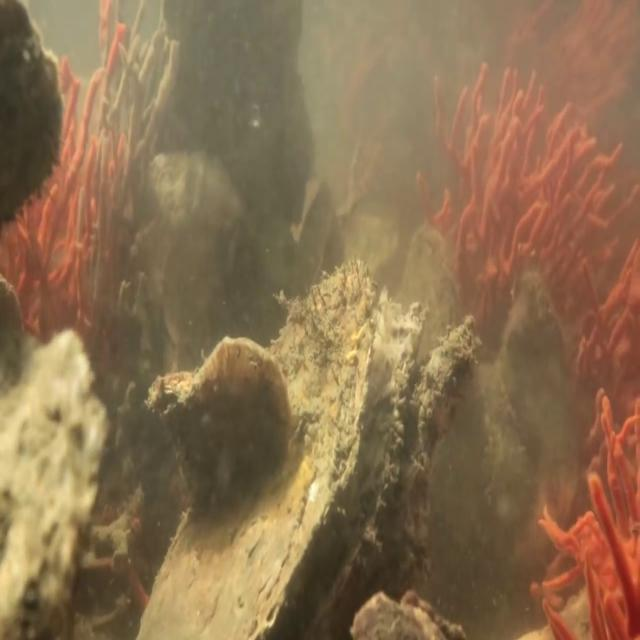Oyster-Indeterminate: (438, 266, 581, 639), (2, 327, 117, 635)
Oyster-Open: (131, 238, 495, 634)
